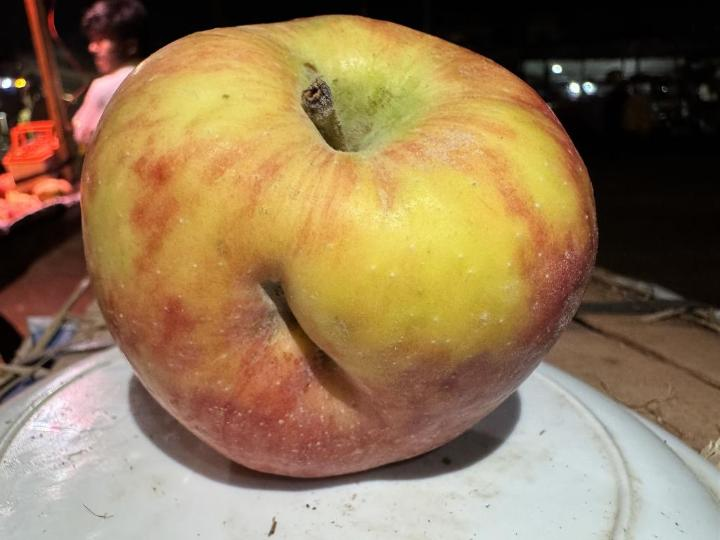apple: (82, 16, 597, 476)
surface_damage: (253, 271, 372, 403)
